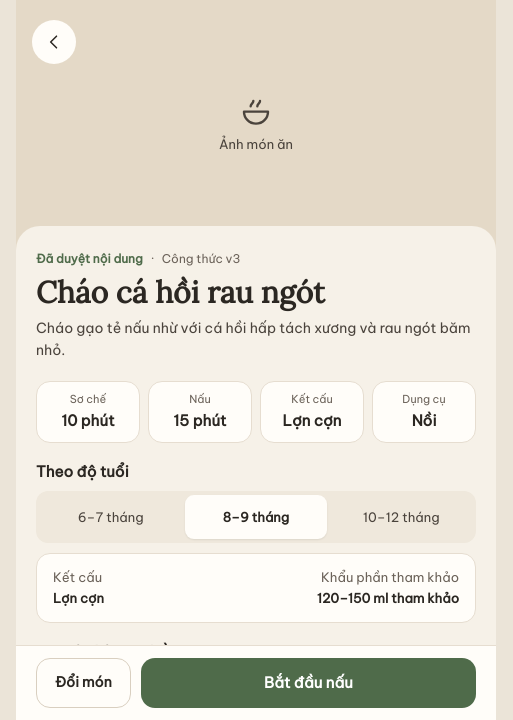
Scenario: Recipe (S03) › switches the texture and portion by age tab, keeping the page while it loads
Click the tab "10–12 tháng" at (401, 517), box [331, 495, 472, 539]
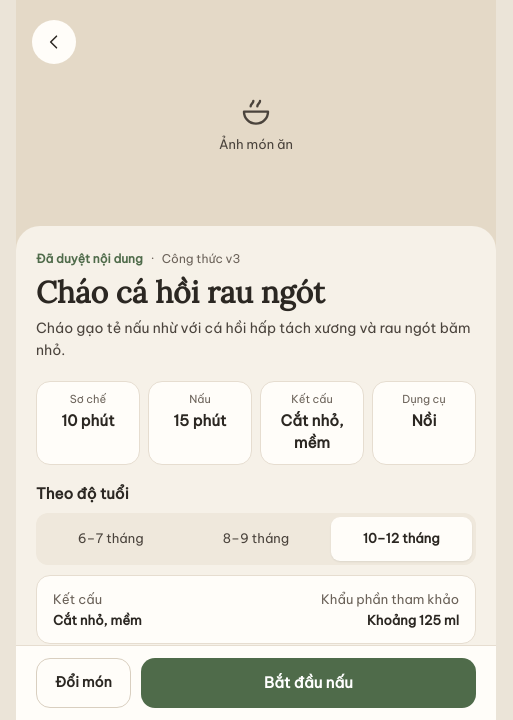
Expected: the heading "Cháo cá hồi rau ngót" is shown, [36, 273, 325, 311]
Now the text "Khoảng 125 ml" is shown, box [367, 610, 459, 629]
Now the text "Cắt nhỏ, mềm" in the row of "Khoảng 125 ml" is shown, box [53, 612, 142, 628]
